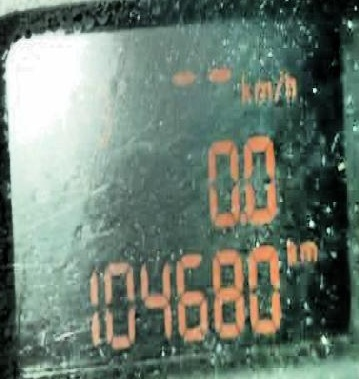-: (239, 212, 246, 227)
0: (247, 243, 281, 333), (242, 136, 275, 224), (103, 258, 135, 348), (206, 138, 239, 225)
1: (87, 267, 100, 350)
4: (138, 257, 171, 343)
6: (174, 251, 207, 343)
8: (211, 248, 243, 340)
X: (283, 66, 298, 103), (253, 79, 272, 105), (299, 237, 316, 262), (284, 236, 298, 262), (240, 71, 251, 104), (274, 71, 283, 105)
